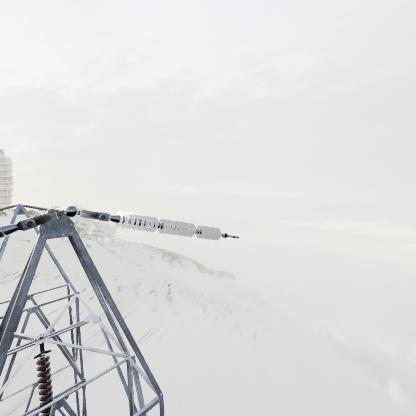insulator: (116, 209, 232, 243)
